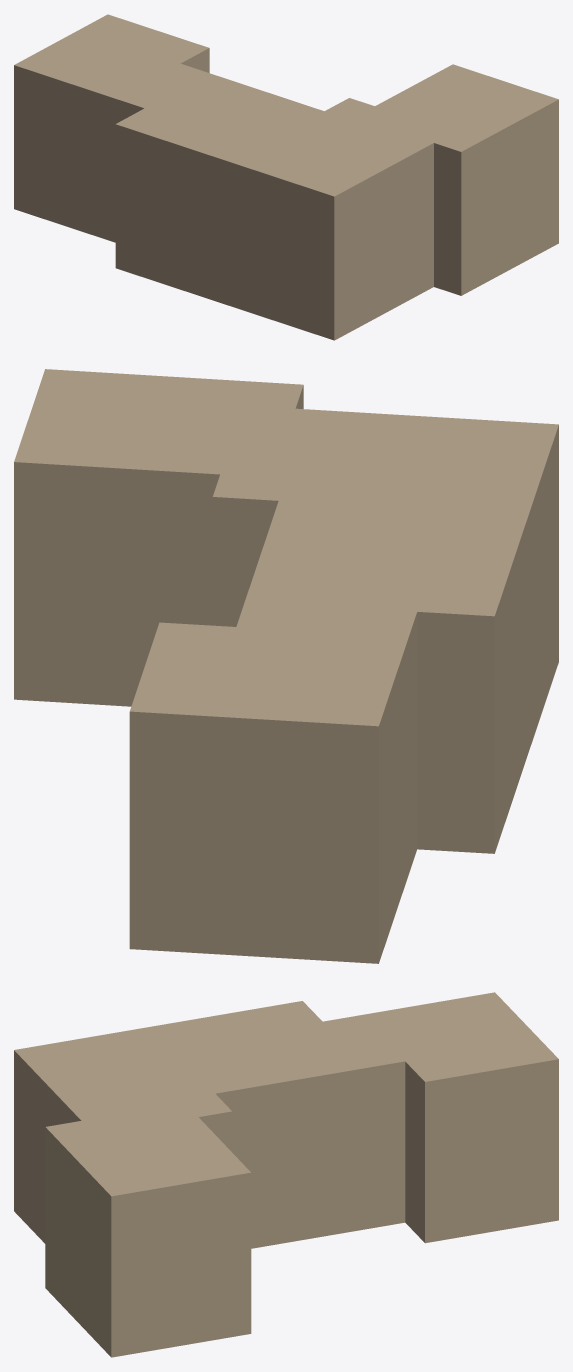
File: bld_106306788.dae
3 renders of one model, top to bottom at view 1: azimuth 30°, elevation 25°; view 2: azimuth 150°, elevation 25°; view 3: azimuth 270°, elevation 25°, orthographic. The views are drawn at different scales.
Visible parts, largest first — view 1: bld_106306788; view 2: bld_106306788; view 3: bld_106306788.
Boxes of the visible parts, left/top/right/bottom form: bld_106306788: left=14, top=14, right=558, bottom=340; bld_106306788: left=14, top=369, right=558, bottom=963; bld_106306788: left=14, top=992, right=558, bottom=1357.
Bounding box in the file's own units: 21.72 × 24.51 × 8.
